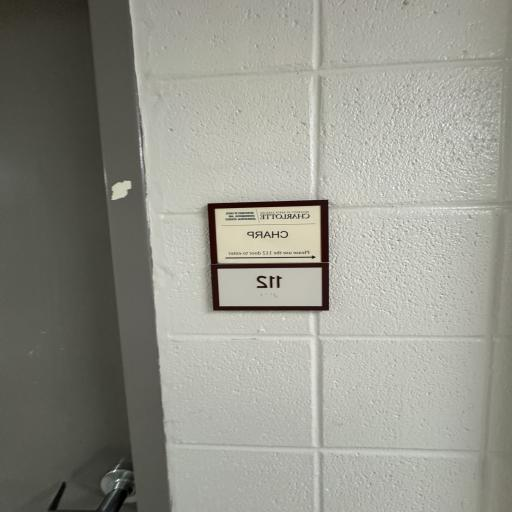door: (0, 0, 128, 512)
room 112 sign: (206, 198, 334, 312)
